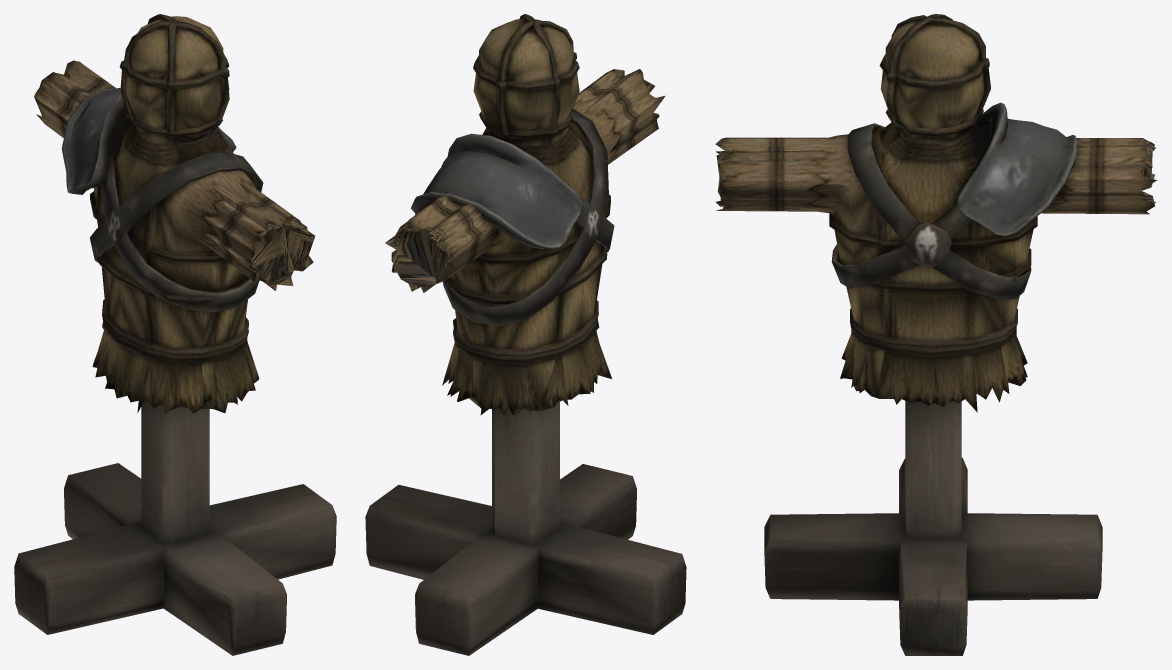
Rendered from mannequin.glb.
3 renders of one model, left to right at view 1: azimuth 30°, elevation 25°; view 2: azimuth 150°, elevation 25°; view 3: azimuth 270°, elevation 25°, orthographic.
Visible parts, largest first — view 1: model; view 2: model; view 3: model.
Part boxes in pixels (x1,y1,x2,y2): model: [14, 14, 336, 655]; model: [365, 14, 686, 655]; model: [715, 14, 1157, 655].
Size of the model in its own units: 0.5382 by 1 by 0.7065.
1 material, 1 textured.
